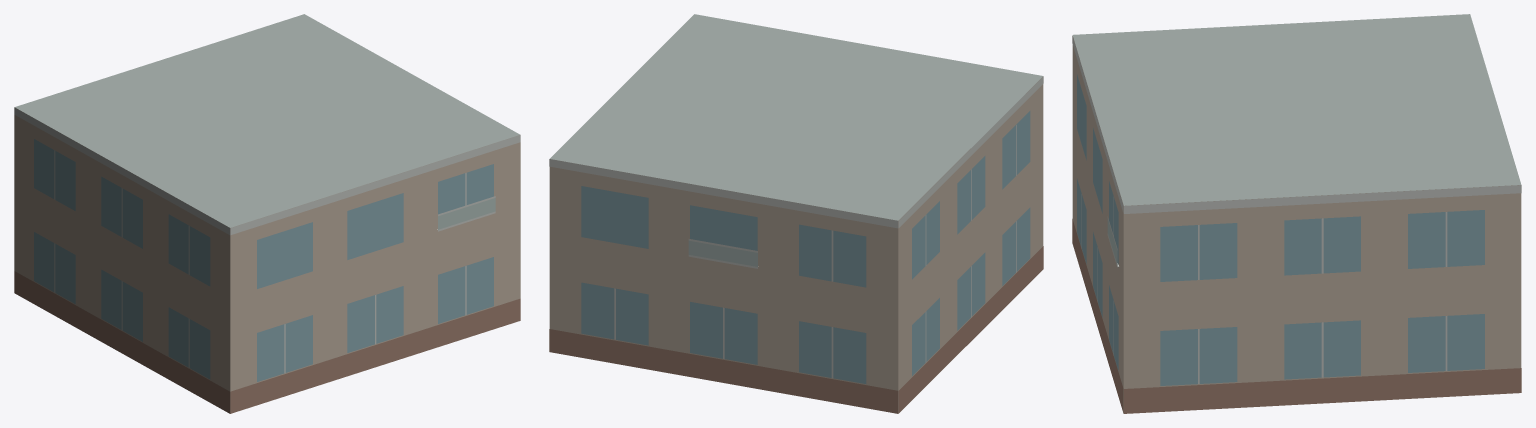
File: survey-upis-33003123.glb
3 views of the same model, side by side, from view 1: azimuth 30°, elevation 25°; view 2: azimuth 150°, elevation 25°; view 3: azimuth 270°, elevation 25° (orthographic). The views are drawn at different scales.
Parts seen in each view (by area): view 1: survey-upis-33003123.tmp; view 2: survey-upis-33003123.tmp; view 3: survey-upis-33003123.tmp.
Boxes of the visible parts, x1,y1,x2,y2 form: survey-upis-33003123.tmp: (14,14,520,413); survey-upis-33003123.tmp: (549,14,1043,413); survey-upis-33003123.tmp: (1072,14,1521,413).
Size of the model in its own units: 12.07 by 6.1 by 11.94.
